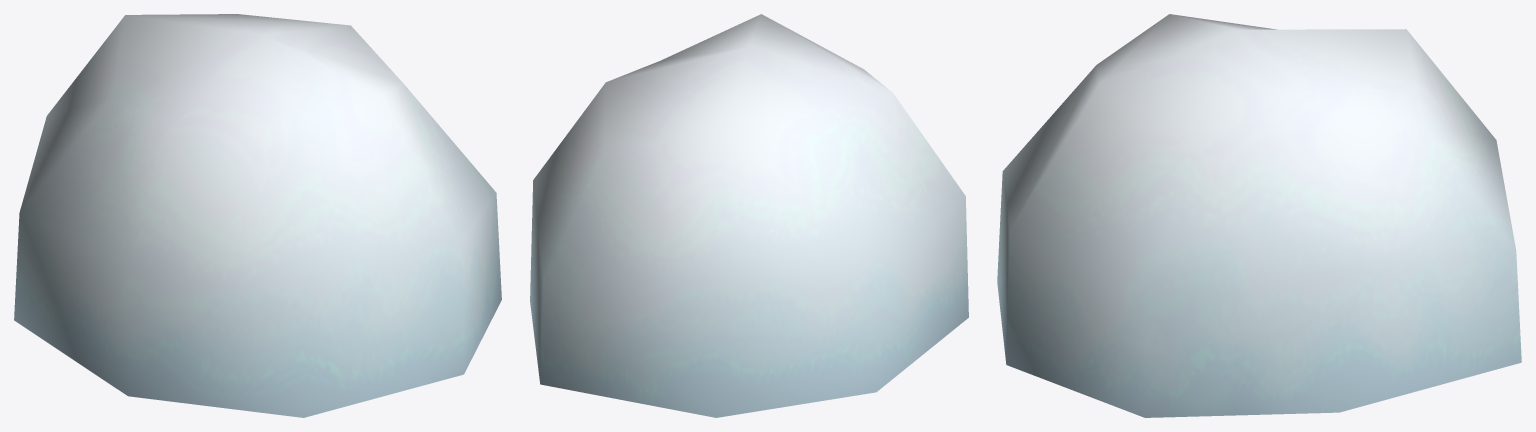
Rendered from SnowStone_02_001.FBX.
3 renders of one model, left to right at view 1: azimuth 30°, elevation 25°; view 2: azimuth 150°, elevation 25°; view 3: azimuth 270°, elevation 25°, orthographic. The views are drawn at different scales.
Visible parts, largest first — view 1: SnowStone_02_001; view 2: SnowStone_02_001; view 3: SnowStone_02_001.
Part boxes in pixels (x1,y1,x2,y2): SnowStone_02_001: [14, 14, 501, 417]; SnowStone_02_001: [530, 14, 968, 417]; SnowStone_02_001: [997, 14, 1521, 417].
Size of the model in its own units: 2.99 by 2.07 by 3.4.
